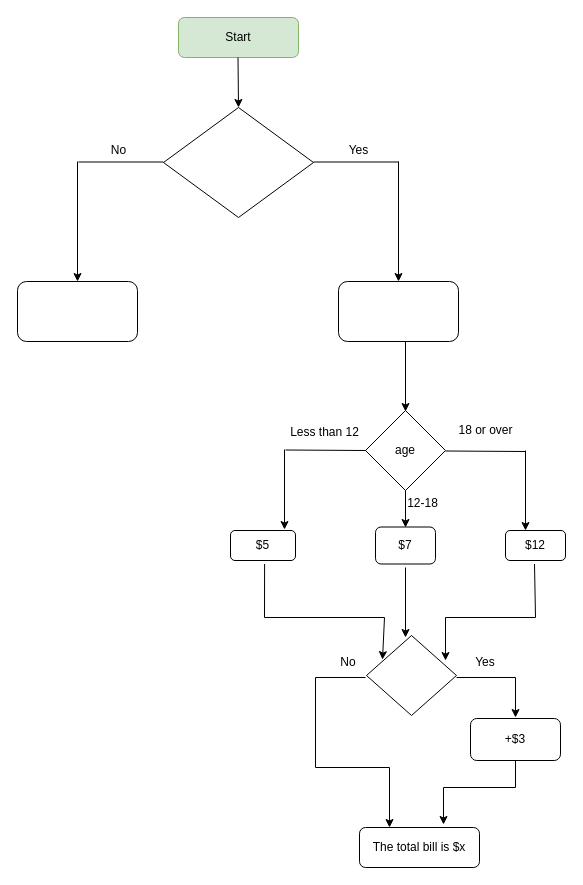
This 583x885 diagram has some shape labels left out. The shapes that lost their labels are listed below. From the top down, each one's centre as x and y in pixels, then its label:
At pixel 238 162: "Height > 120cm?".
At pixel 77 311: "Can't ride".
At pixel 398 311: "Can ride".
At pixel 411 675: "wants photos".
